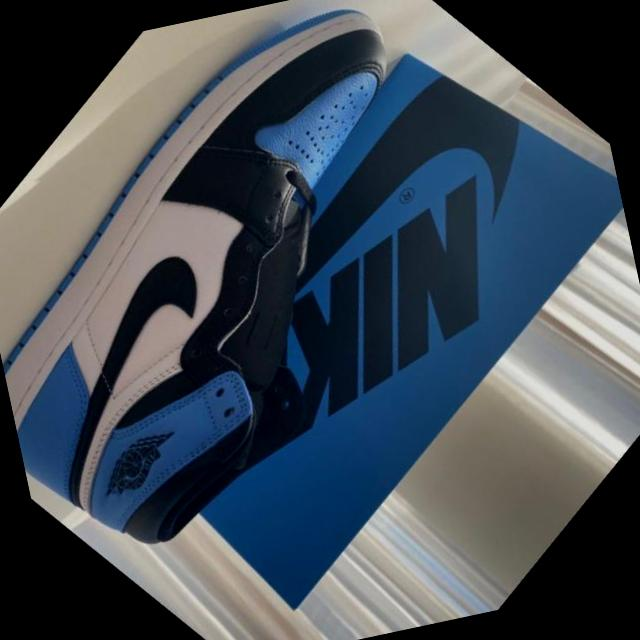nike_original_jordan: (0, 0, 610, 619)
